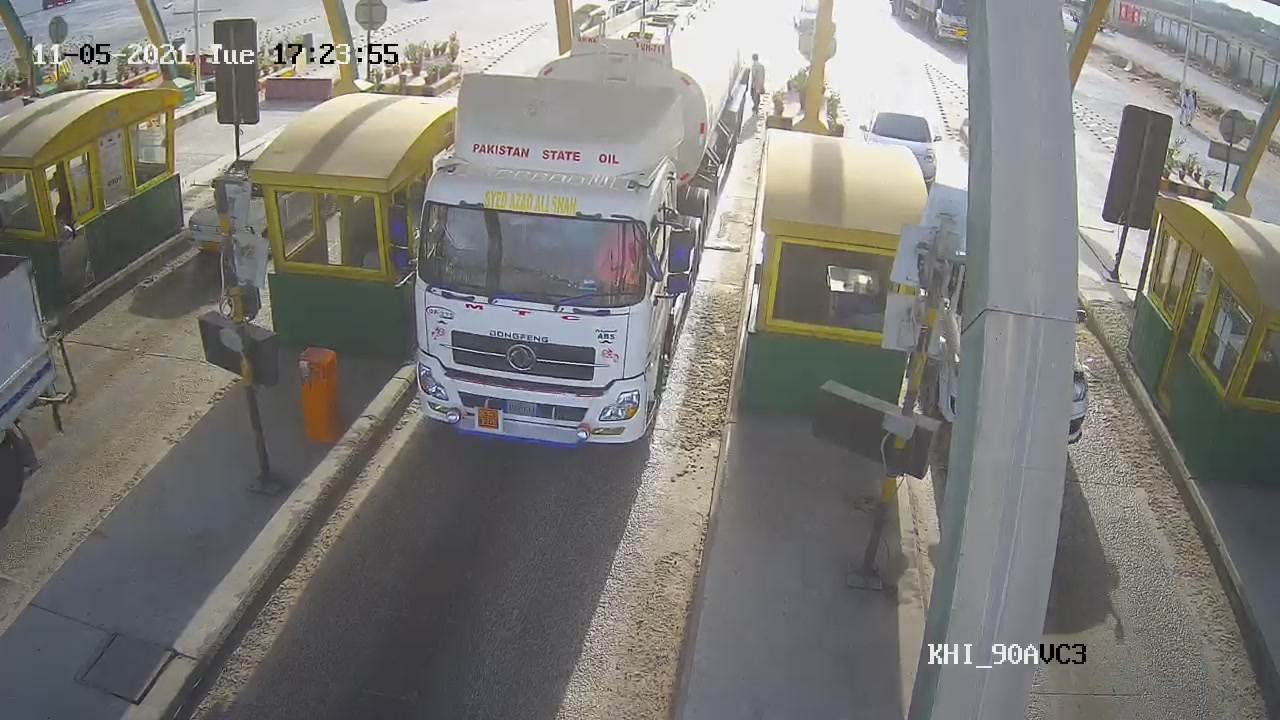F6: (409, 3, 743, 439)
